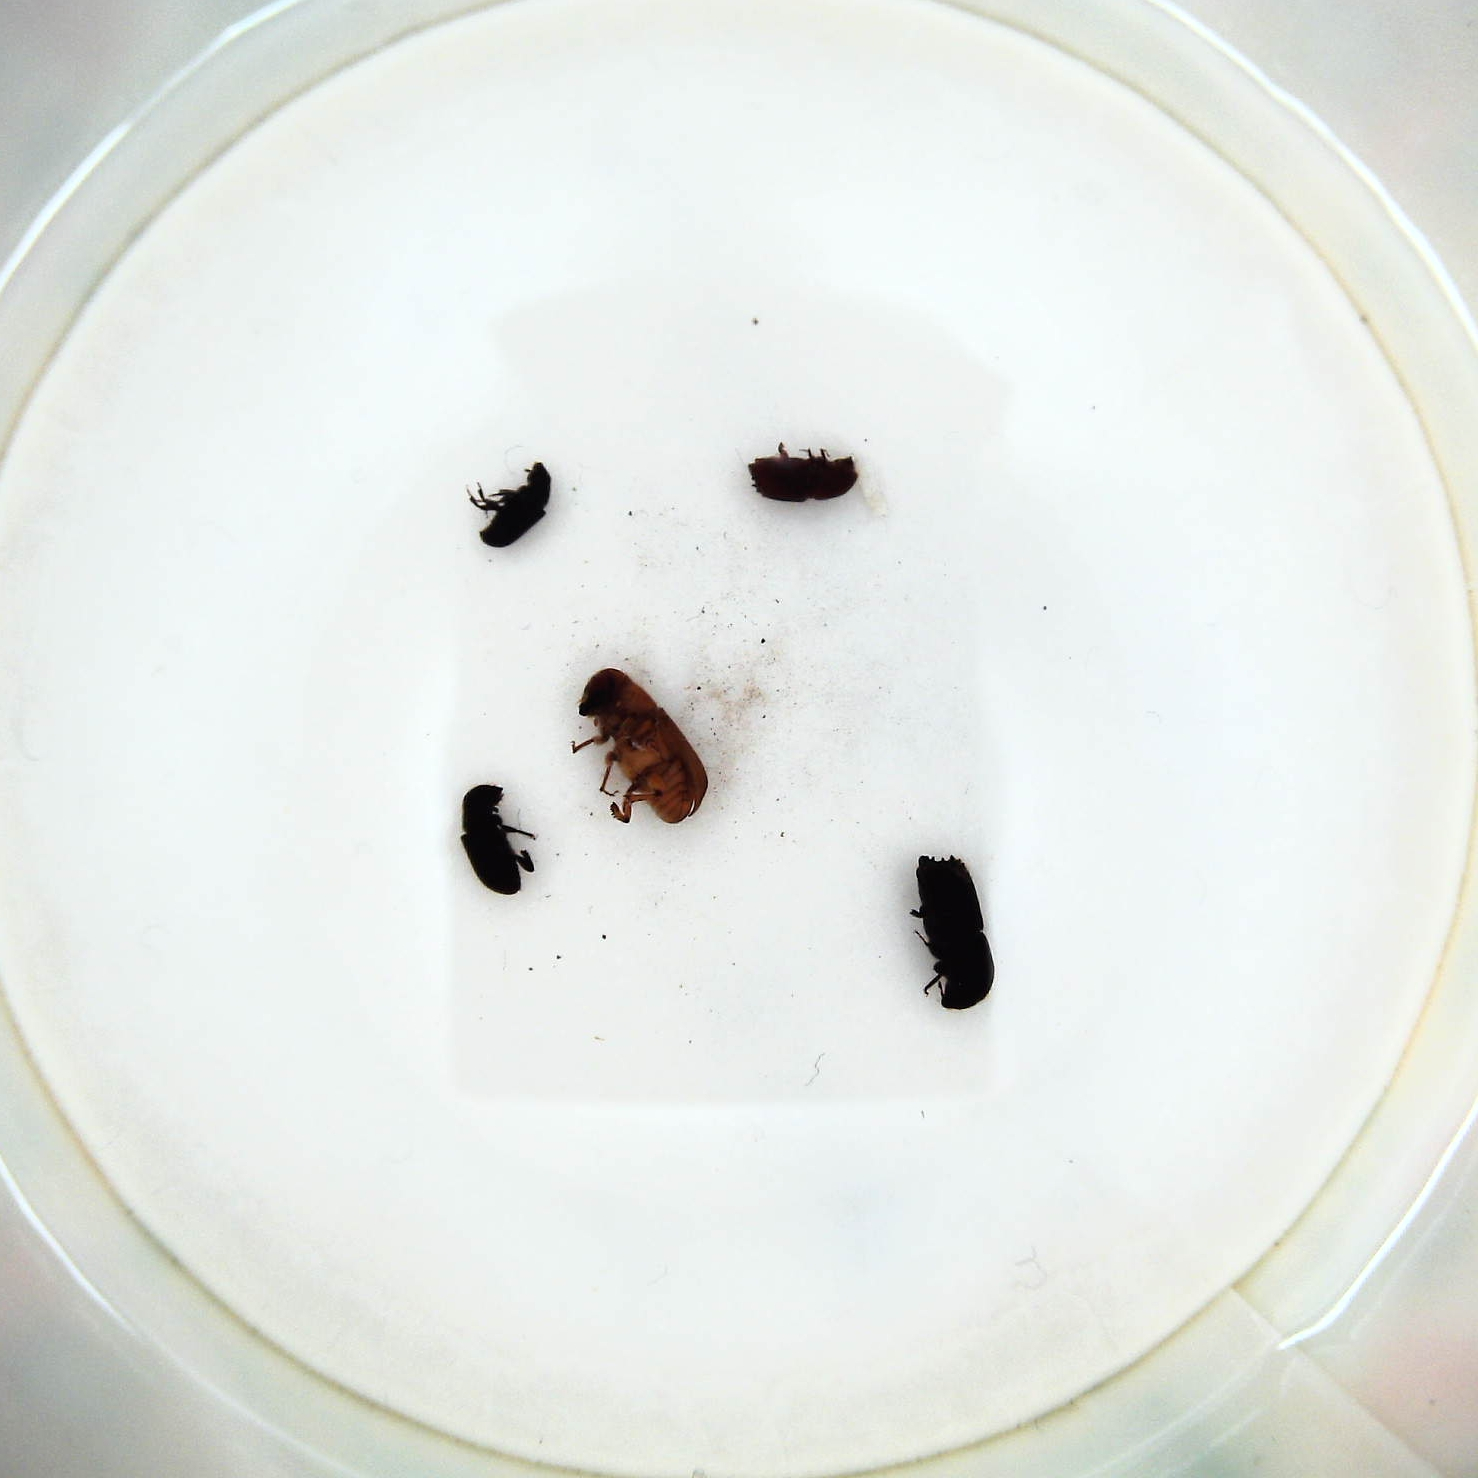Boerner: (904, 847, 1002, 1021)
Leconte: (568, 669, 712, 832)
armandi: (451, 780, 536, 901)
coleoptera: (466, 459, 563, 550)
linnaeus: (740, 443, 864, 512)
